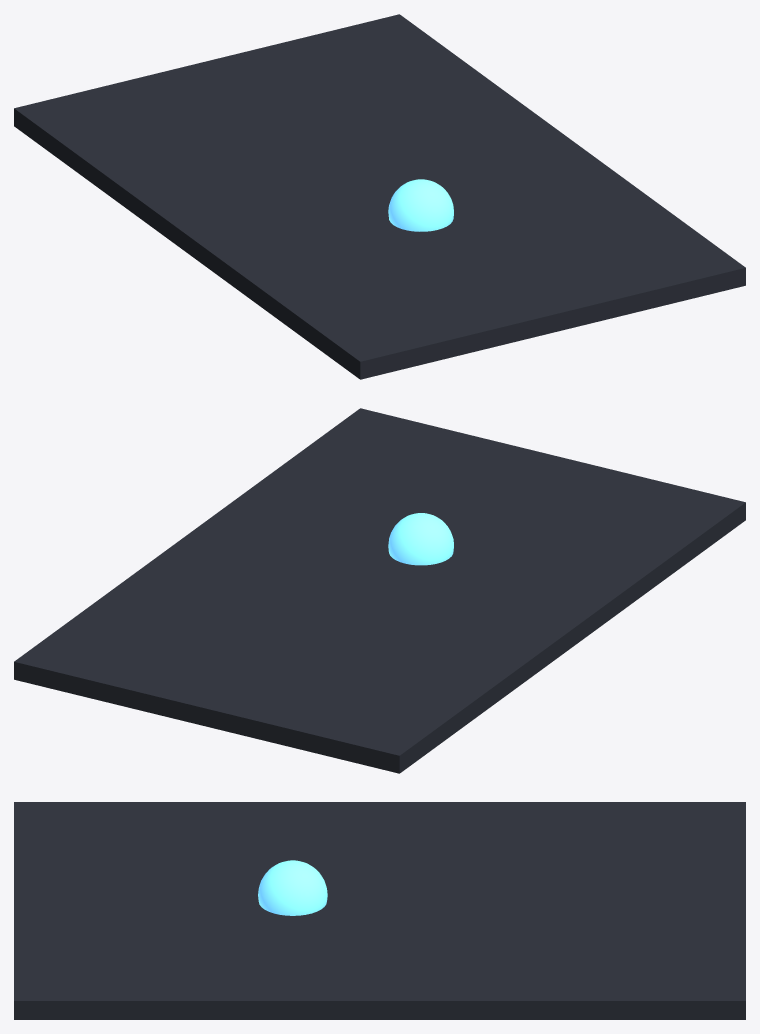
3 renders of one model, top to bottom at view 1: azimuth 30°, elevation 25°; view 2: azimuth 150°, elevation 25°; view 3: azimuth 270°, elevation 25°, orthographic. The views are drawn at different scales.
Parts seen in each view (by area): view 1: corridor_floor_ceiling_wall_rib_rail_door_light_panel_box, drone_core_ring_sensor_antenna_sphere; view 2: corridor_floor_ceiling_wall_rib_rail_door_light_panel_box, drone_core_ring_sensor_antenna_sphere; view 3: corridor_floor_ceiling_wall_rib_rail_door_light_panel_box, drone_core_ring_sensor_antenna_sphere.
Boxes of the visible parts, <box> form: corridor_floor_ceiling_wall_rib_rail_door_light_panel_box: <box>14,14,745,379</box>; drone_core_ring_sensor_antenna_sphere: <box>388,179,453,231</box>; corridor_floor_ceiling_wall_rib_rail_door_light_panel_box: <box>14,408,745,773</box>; drone_core_ring_sensor_antenna_sphere: <box>388,513,453,565</box>; corridor_floor_ceiling_wall_rib_rail_door_light_panel_box: <box>14,802,745,1019</box>; drone_core_ring_sensor_antenna_sphere: <box>258,860,327,915</box>.
Bounding box in the file's own units: 5.4 × 0.8 × 8.4.
